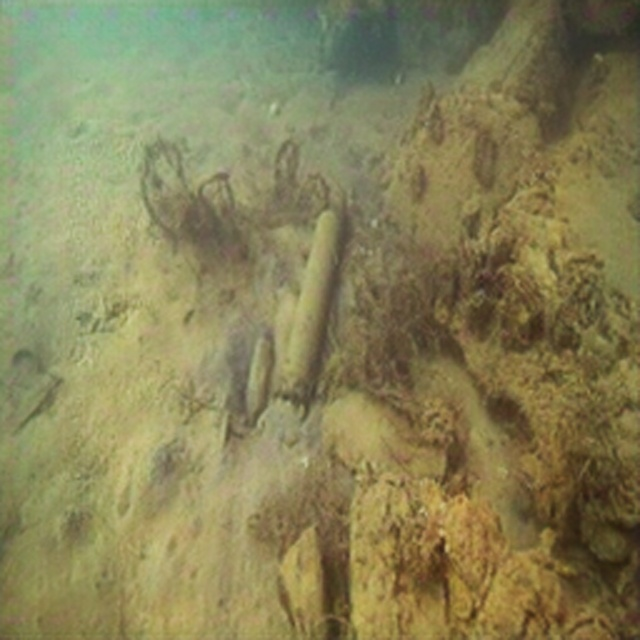mine: (278, 181, 348, 403)
